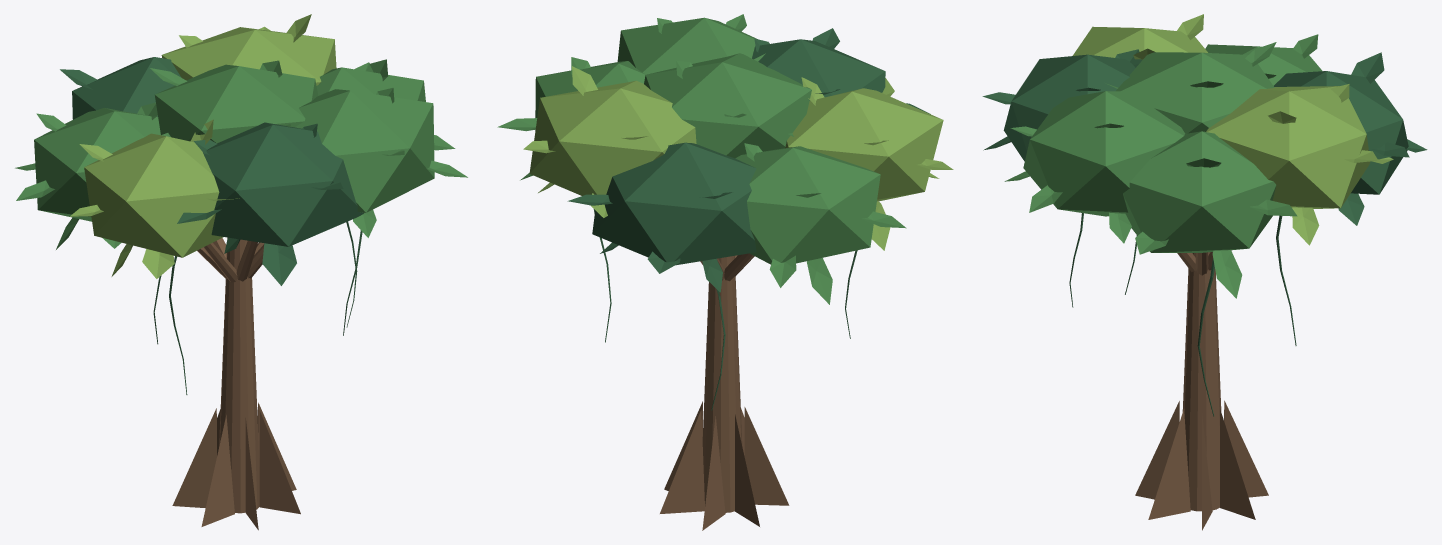
The model's file is tree_broadleaf.glb.
3 renders of one model, left to right at view 1: azimuth 30°, elevation 25°; view 2: azimuth 150°, elevation 25°; view 3: azimuth 270°, elevation 25°, orthographic. The views are drawn at different scales.
Parts seen in each view (by area): view 1: tree_broadleaf; view 2: tree_broadleaf; view 3: tree_broadleaf.
Boxes of the visible parts, x1,y1,x2,y2 form: tree_broadleaf: [15, 14, 467, 530]; tree_broadleaf: [497, 14, 953, 530]; tree_broadleaf: [982, 14, 1427, 530].
Bounding box in the file's own units: 13.2 × 14.19 × 12.75.
